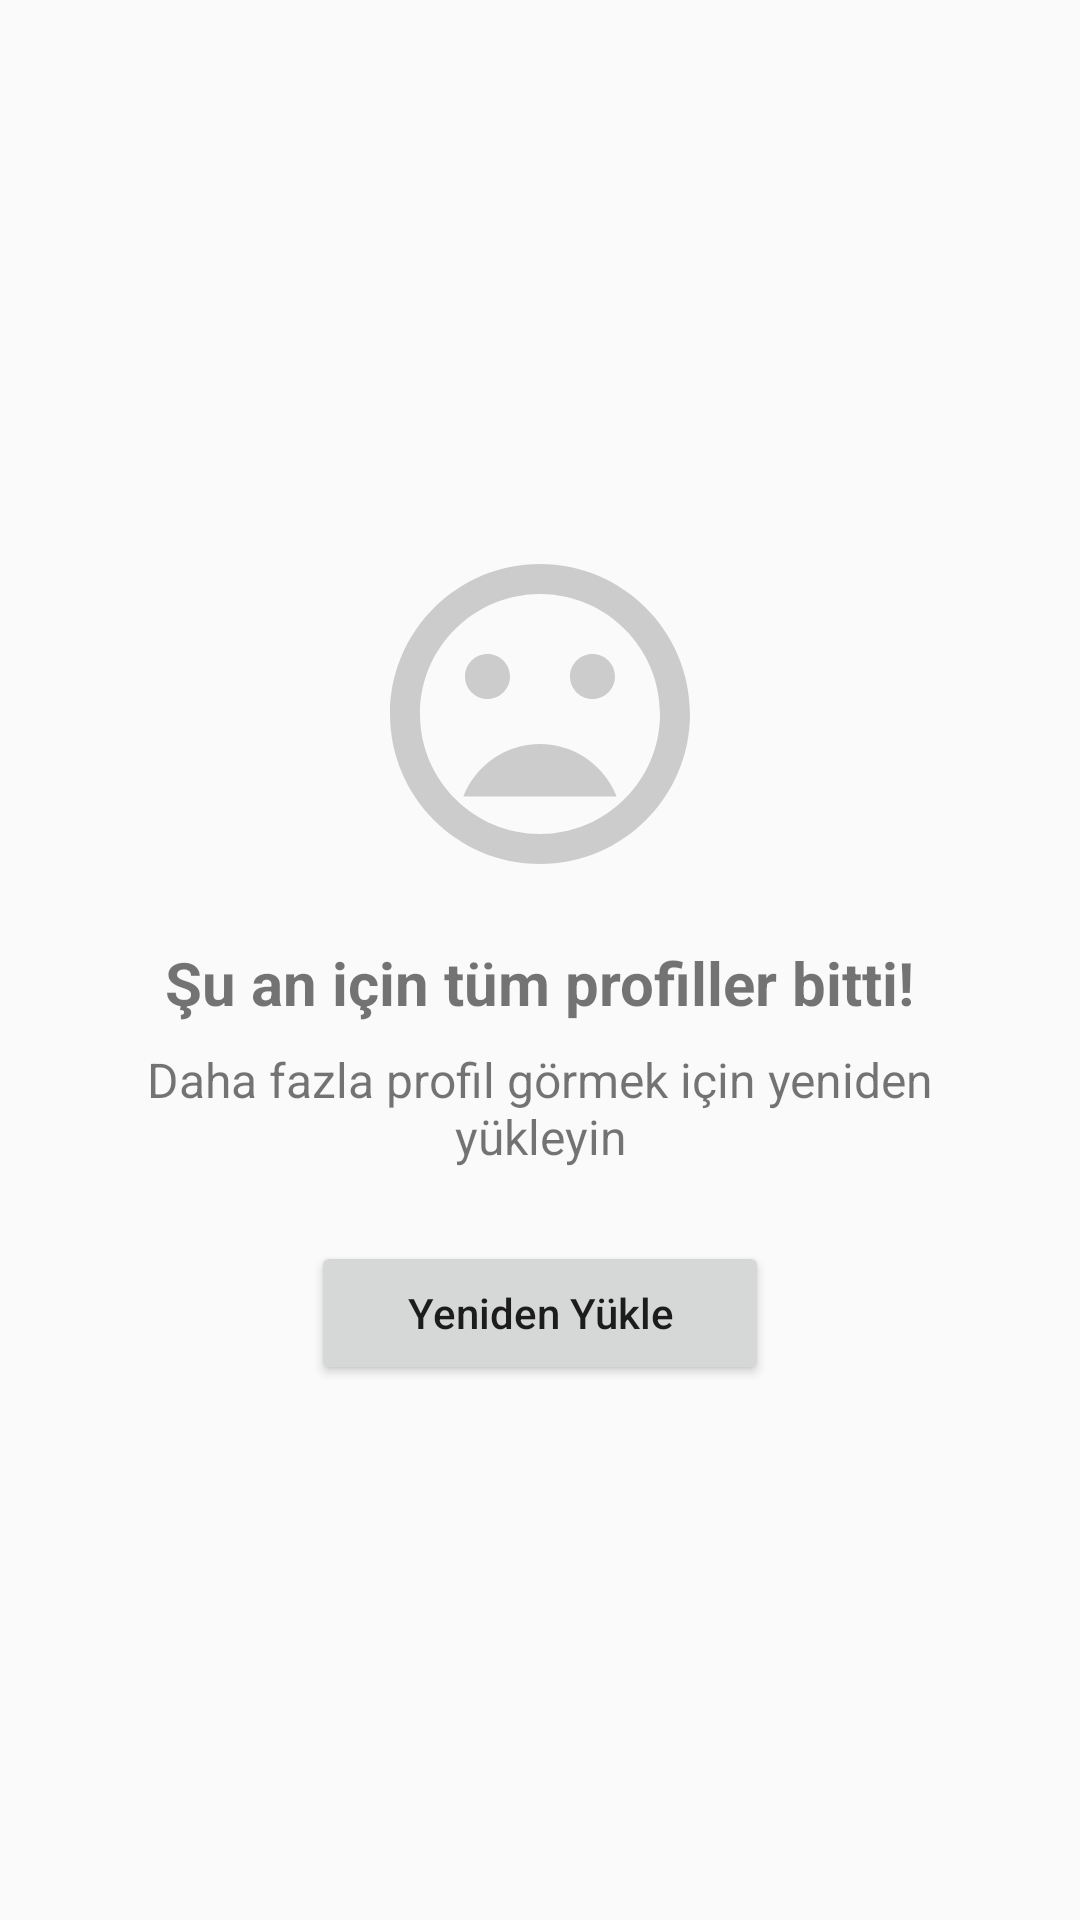

Icons on this 1080w x 1920h Android screen, each with the point to tap as [x,y]:
empty state: [540,714]
